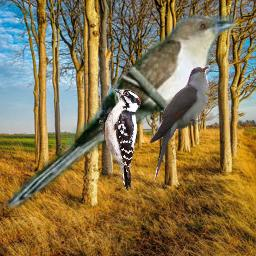Cuckoo: (2, 13, 242, 217), (149, 66, 210, 182)
Woodpecker: (99, 86, 141, 193)
